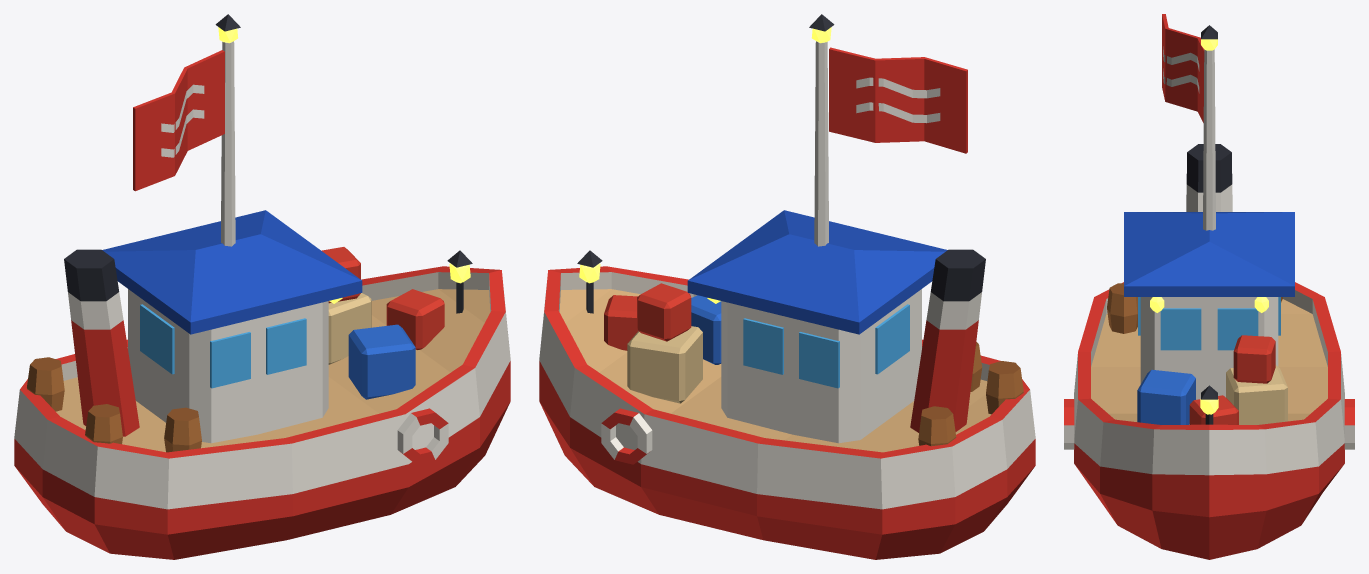
The picture shows the model from 3 angles, left to right: view 1: azimuth 30°, elevation 25°; view 2: azimuth 150°, elevation 25°; view 3: azimuth 270°, elevation 25°; orthographic projection. The views are drawn at different scales.
Parts seen in each view (by area): view 1: hull, roof, cabin, crates, funnel, flag, glass, barrels, mast, life_rings, flag_symbol, lanterns; view 2: hull, roof, cabin, flag, crates, funnel, glass, barrels, mast, life_rings, flag_symbol, lanterns; view 3: hull, roof, crates, cabin, glass, flag, funnel, mast, barrels, life_rings, lanterns, flag_symbol (+1 smaller).
Part boxes in pixels (bbox=[...]): hull: bbox=[14, 266, 510, 559]; roof: bbox=[102, 210, 362, 334]; cabin: bbox=[128, 289, 328, 443]; crates: bbox=[321, 247, 444, 399]; funnel: bbox=[64, 249, 139, 436]; flag: bbox=[133, 50, 224, 191]; glass: bbox=[140, 304, 306, 388]; barrels: bbox=[27, 357, 201, 452]; mast: bbox=[221, 41, 235, 246]; life_rings: bbox=[397, 408, 448, 464]; flag_symbol: bbox=[161, 84, 204, 157]; lanterns: bbox=[218, 27, 470, 303]; hull: bbox=[539, 266, 1035, 559]; roof: bbox=[687, 210, 947, 334]; cabin: bbox=[721, 289, 921, 443]; flag: bbox=[829, 47, 967, 153]; crates: bbox=[604, 283, 721, 403]; funnel: bbox=[910, 249, 985, 432]; glass: bbox=[743, 304, 909, 388]; barrels: bbox=[918, 342, 1023, 446]; mast: bbox=[814, 41, 828, 246]; life_rings: bbox=[601, 408, 652, 464]; flag_symbol: bbox=[856, 77, 940, 123]; lanterns: bbox=[579, 27, 831, 303]; hull: bbox=[1074, 282, 1344, 559]; roof: bbox=[1124, 212, 1294, 296]; crates: bbox=[1137, 335, 1287, 424]; cabin: bbox=[1140, 297, 1278, 399]; glass: bbox=[1138, 297, 1280, 350]; flag: bbox=[1162, 14, 1204, 122]; funnel: bbox=[1186, 144, 1232, 211]; mast: bbox=[1203, 49, 1215, 230]; barrels: bbox=[1107, 283, 1282, 333]; life_rings: bbox=[1064, 399, 1354, 449]; lanterns: bbox=[1150, 39, 1268, 414]; flag_symbol: bbox=[1163, 46, 1199, 93].
Size of the model in its own units: 2 by 1.97 by 1.22.
